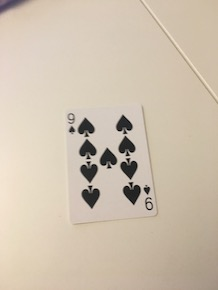NineOfSpades: (54, 100, 163, 225)
